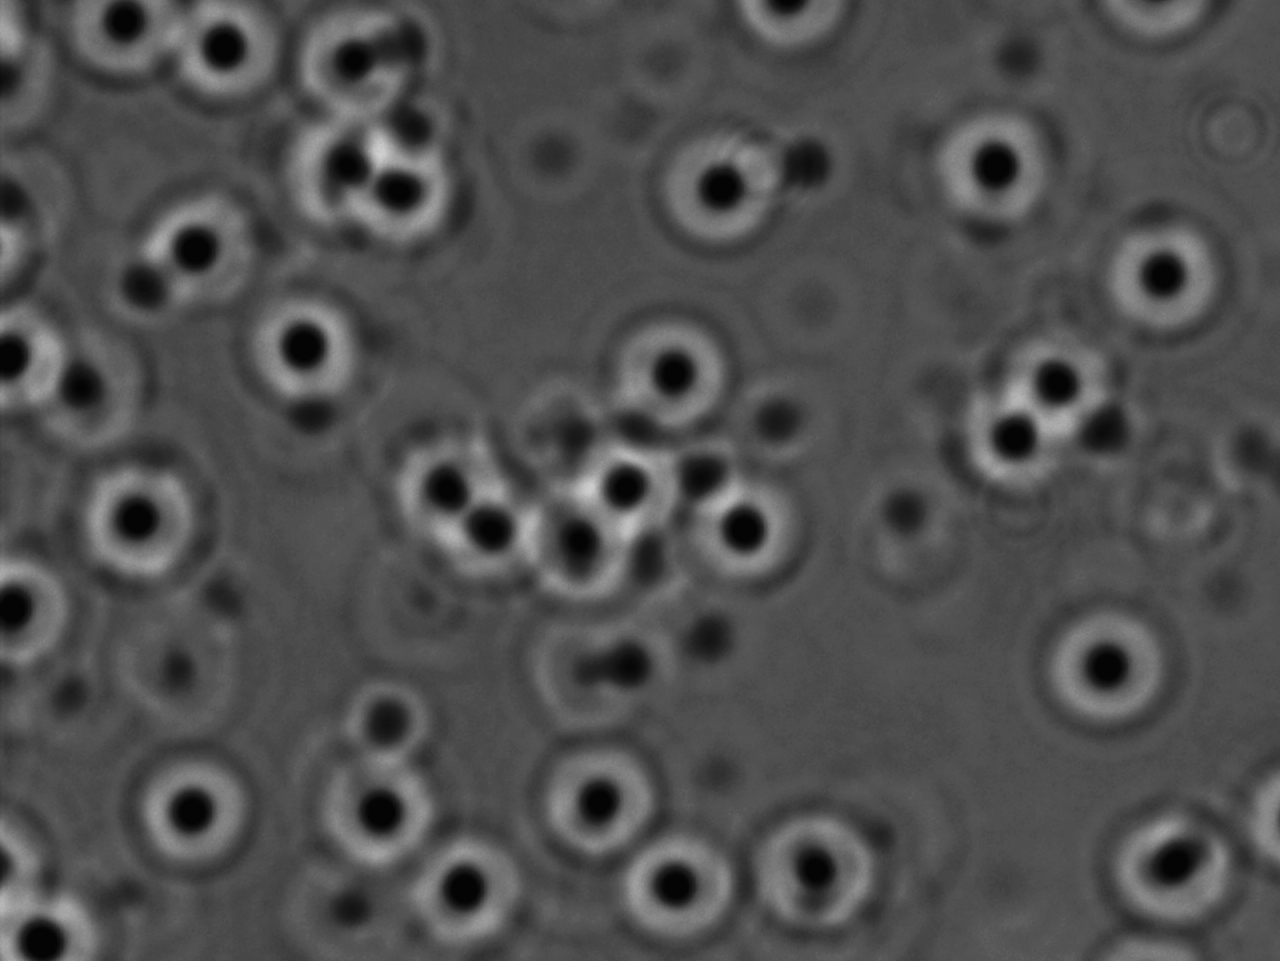depth:-32: (585, 802, 749, 952), (56, 448, 218, 598), (389, 800, 550, 946), (111, 735, 269, 881), (512, 723, 671, 861), (649, 115, 802, 259), (239, 281, 386, 428), (135, 178, 286, 321), (337, 128, 488, 266), (1032, 597, 1176, 739), (299, 741, 446, 876), (920, 91, 1060, 229), (601, 297, 738, 434), (1106, 200, 1238, 340), (747, 791, 883, 923), (995, 317, 1117, 454), (687, 479, 817, 608), (952, 383, 1078, 509)
